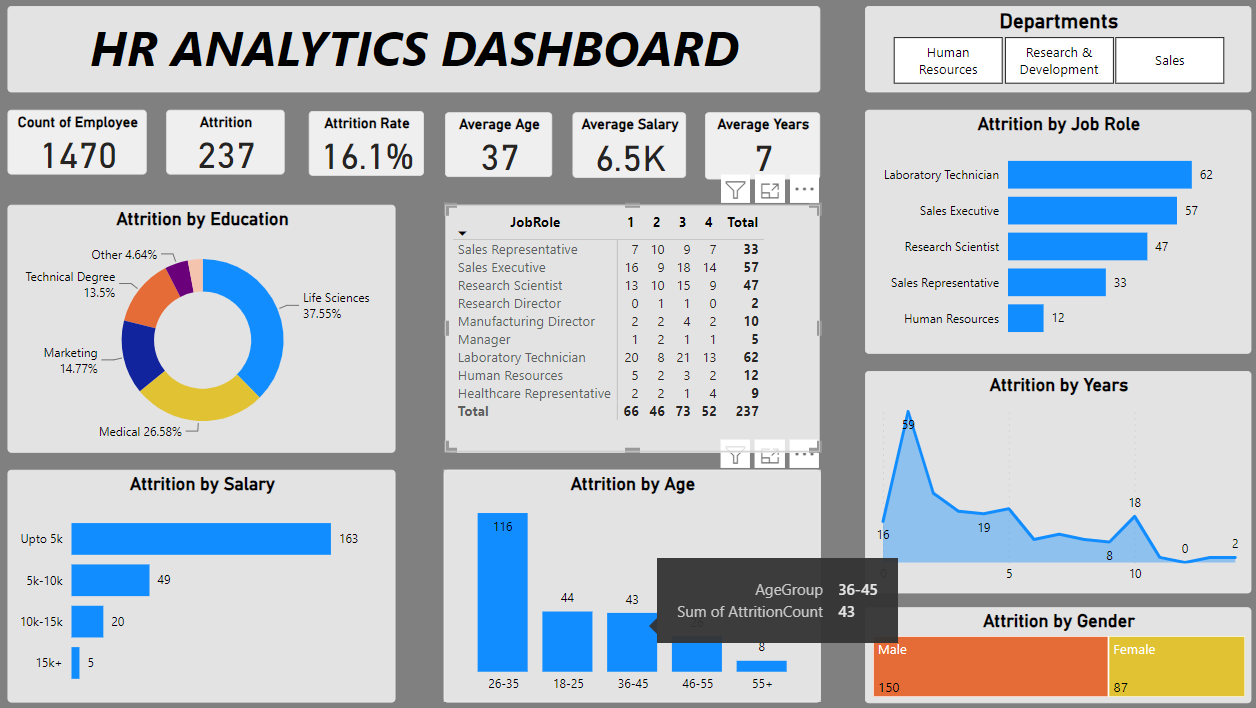

The page's visual inventory and layout, read from the dashboard file:
{"tool":"powerbi","page":{"name":"Page 1","canvas":[1280,720],"ordinal":0},"visuals":[{"type":"card","title":"Count of Employee","fields":{"Values":["CountNonNull(HR_Analytics.EmpID)"]},"box":[17,113.8,139.4,64.9],"z":0},{"type":"card","title":"Attrition","fields":{"Values":["Sum(HR_Analytics.AttritionCount)"]},"box":[176.6,113.8,118.1,64.9],"z":1000},{"type":"card","title":"Attrition Rate","fields":{"Values":["HR_Analytics.AttritionRate"]},"box":[319.1,114.9,114.9,64.9],"z":2000},{"type":"card","title":"Average Age ","fields":{"Values":["Avg(HR_Analytics.Age)"]},"box":[455.3,116,107.4,64.9],"z":3000},{"type":"card","title":"Average Salary","fields":{"Values":["Avg(HR_Analytics.MonthlyIncome)"]},"box":[583,116,113.8,66],"z":4000},{"type":"card","title":"Average Years ","fields":{"Values":["Avg(HR_Analytics.YearsAtCompany)"]},"box":[714.9,116,114.9,67],"z":5000},{"type":"donutChart","title":"Attrition by Education","fields":{"Category":["HR_Analytics.EducationField"],"Y":["Sum(HR_Analytics.AttritionCount)"]},"box":[17,208.5,388.3,247.9],"z":6000},{"type":"columnChart","title":"Attrition by Age","fields":{"Category":["HR_Analytics.AgeGroup"],"Y":["Sum(HR_Analytics.AttritionCount)"]},"box":[453.2,473.4,376.6,233],"z":7000},{"type":"pivotTable","fields":{"Rows":["HR_Analytics.JobRole"],"Columns":["HR_Analytics.JobSatisfaction"],"Values":["Sum(HR_Analytics.AttritionCount)"]},"box":[455.3,208.5,374.5,247.9],"z":8000},{"type":"barChart","title":"Attrition by Salary","fields":{"Category":["HR_Analytics.SalarySlab"],"Y":["Sum(HR_Analytics.AttritionCount)"]},"box":[17,473.4,388.3,233],"z":9000},{"type":"barChart","title":"Attrition by Job Role","fields":{"Category":["HR_Analytics.JobRole"],"Y":["Sum(HR_Analytics.AttritionCount)"]},"box":[875.5,113.8,386.2,243.6],"z":10000},{"type":"areaChart","title":"Attrition by Years","fields":{"Category":["HR_Analytics.YearsAtCompany"],"Y":["Sum(HR_Analytics.AttritionCount)"]},"box":[875,375,386.2,222.5],"z":11000},{"type":"treemap","title":"Attrition by Gender","fields":{"Group":["HR_Analytics.Gender"],"Values":["Sum(HR_Analytics.AttritionCount)"]},"box":[875.5,610.6,386.2,95.7],"z":12000},{"type":"slicer","title":"Departments","fields":{"Values":["HR_Analytics.Department"]},"box":[875.5,9.6,386.2,86.2],"z":13000},{"type":"textbox","box":[17,9.6,812.8,86.2],"z":14000}]}

Visuals, with their boxes in screenshot pixels (x1, y1, x2, y2), scaled from the page's 1280x720 canvas onto the 1256x708 screenshot:
"Count of Employee" card: {"left": 17, "top": 112, "right": 153, "bottom": 176}
"Attrition" card: {"left": 173, "top": 112, "right": 289, "bottom": 176}
"Attrition Rate" card: {"left": 313, "top": 113, "right": 426, "bottom": 177}
"Average Age " card: {"left": 447, "top": 114, "right": 552, "bottom": 178}
"Average Salary" card: {"left": 572, "top": 114, "right": 684, "bottom": 179}
"Average Years " card: {"left": 701, "top": 114, "right": 814, "bottom": 180}
"Attrition by Education" donutChart: {"left": 17, "top": 205, "right": 398, "bottom": 449}
"Attrition by Age" columnChart: {"left": 445, "top": 466, "right": 814, "bottom": 695}
pivotTable - HR_Analytics.JobRole x HR_Analytics.JobSatisfaction: {"left": 447, "top": 205, "right": 814, "bottom": 449}
"Attrition by Salary" barChart: {"left": 17, "top": 466, "right": 398, "bottom": 695}
"Attrition by Job Role" barChart: {"left": 859, "top": 112, "right": 1238, "bottom": 351}
"Attrition by Years" areaChart: {"left": 859, "top": 369, "right": 1238, "bottom": 588}
"Attrition by Gender" treemap: {"left": 859, "top": 600, "right": 1238, "bottom": 695}
"Departments" slicer: {"left": 859, "top": 9, "right": 1238, "bottom": 94}
textbox: {"left": 17, "top": 9, "right": 814, "bottom": 94}
